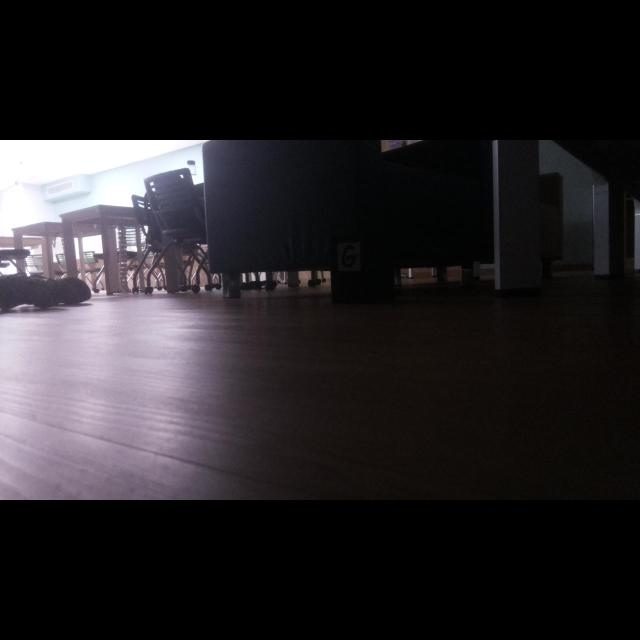G: (341, 245, 357, 267)
